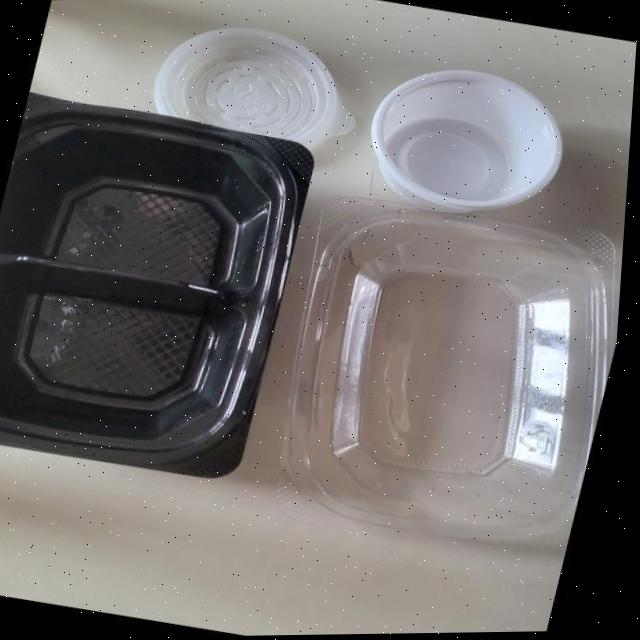disposable: (0, 68, 346, 510)
